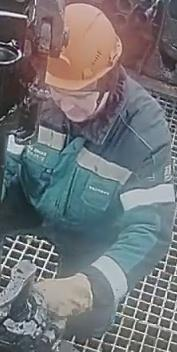gloves: (34, 271, 103, 320)
helmet: (43, 2, 123, 102)
vest: (0, 109, 176, 255)
